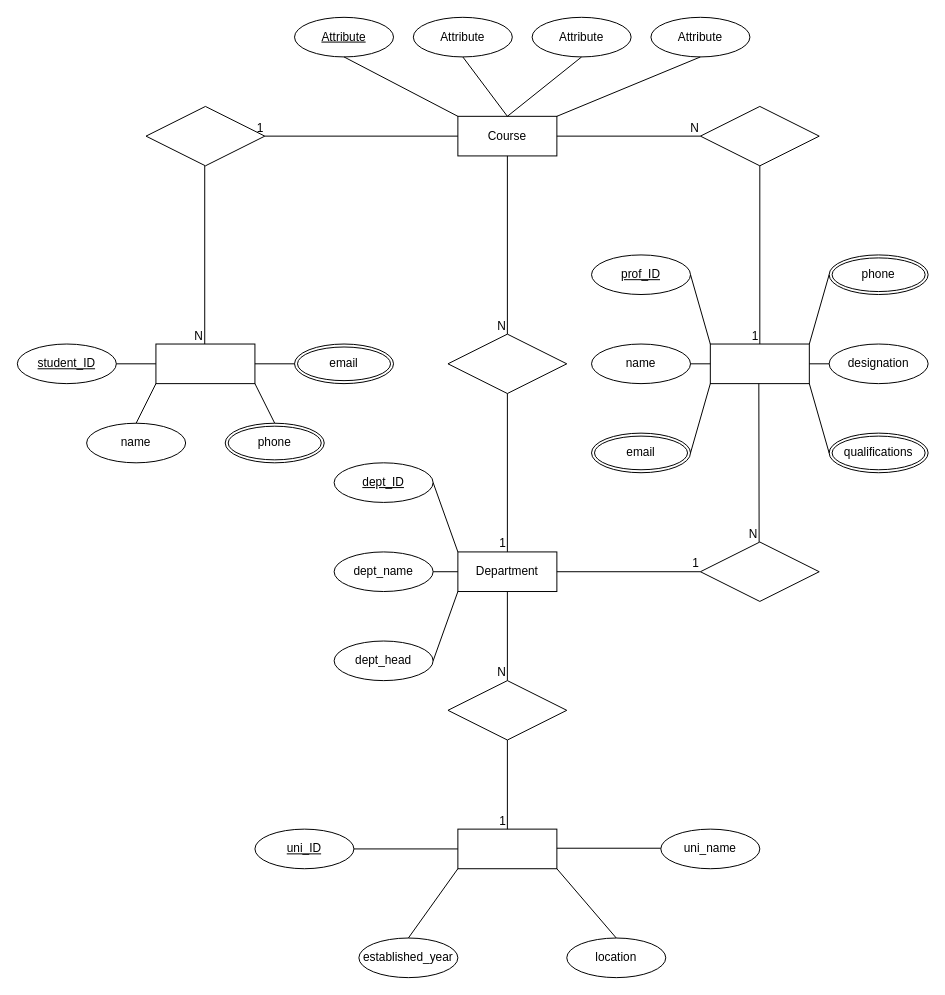
Some shapes in this 945 by 995 pixel diagram are drawn without their labels. The box of each missing label's shape, as (x1, y1, x2, y2) in pixels:
belong_to: (699, 541, 819, 601)
contains: (447, 680, 567, 740)
enrolls_in: (145, 105, 265, 166)
offers: (447, 333, 567, 394)
Professor: (709, 343, 809, 384)
Student: (155, 343, 255, 384)
teaches: (699, 105, 819, 166)
University: (457, 828, 557, 869)
